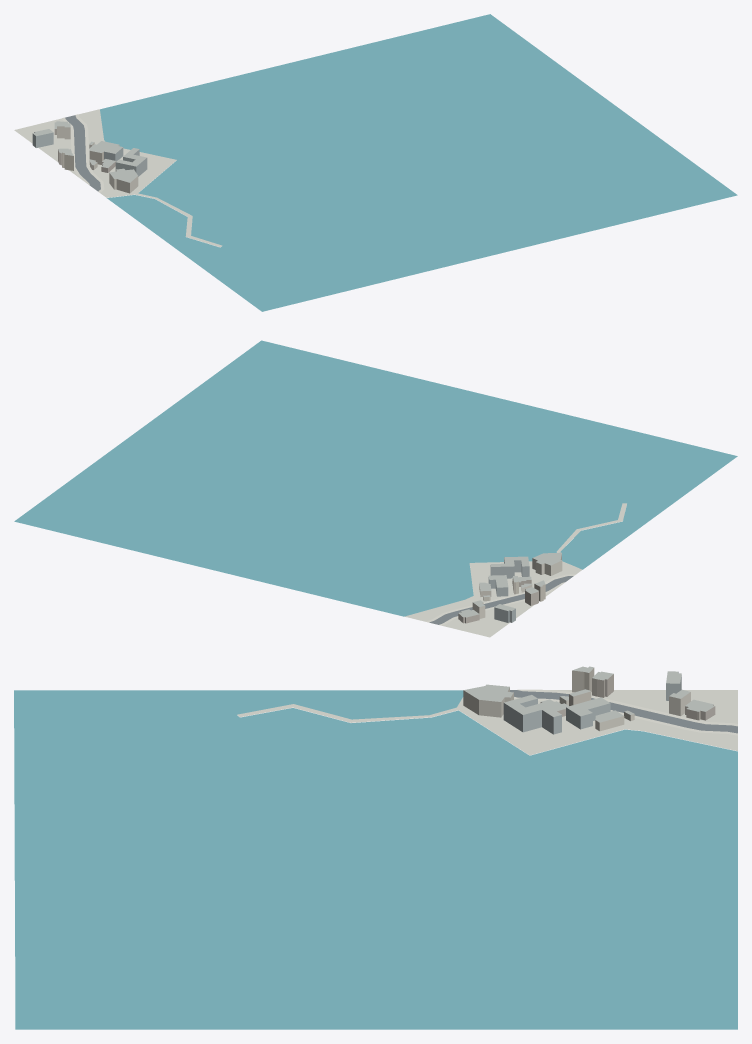
3 views of the same model, one above another, from view 1: azimuth 30°, elevation 25°; view 2: azimuth 150°, elevation 25°; view 3: azimuth 270°, elevation 25° (orthographic). The views are drawn at different scales.
Visible parts, largest first — view 1: city; view 2: city; view 3: city.
Part boxes in pixels (left/top/right/bottom): city: left=14, top=14, right=737, bottom=311; city: left=14, top=340, right=737, bottom=637; city: left=14, top=666, right=737, bottom=1029.
Bounding box in the file's own units: 503 × 15.18 × 451.
